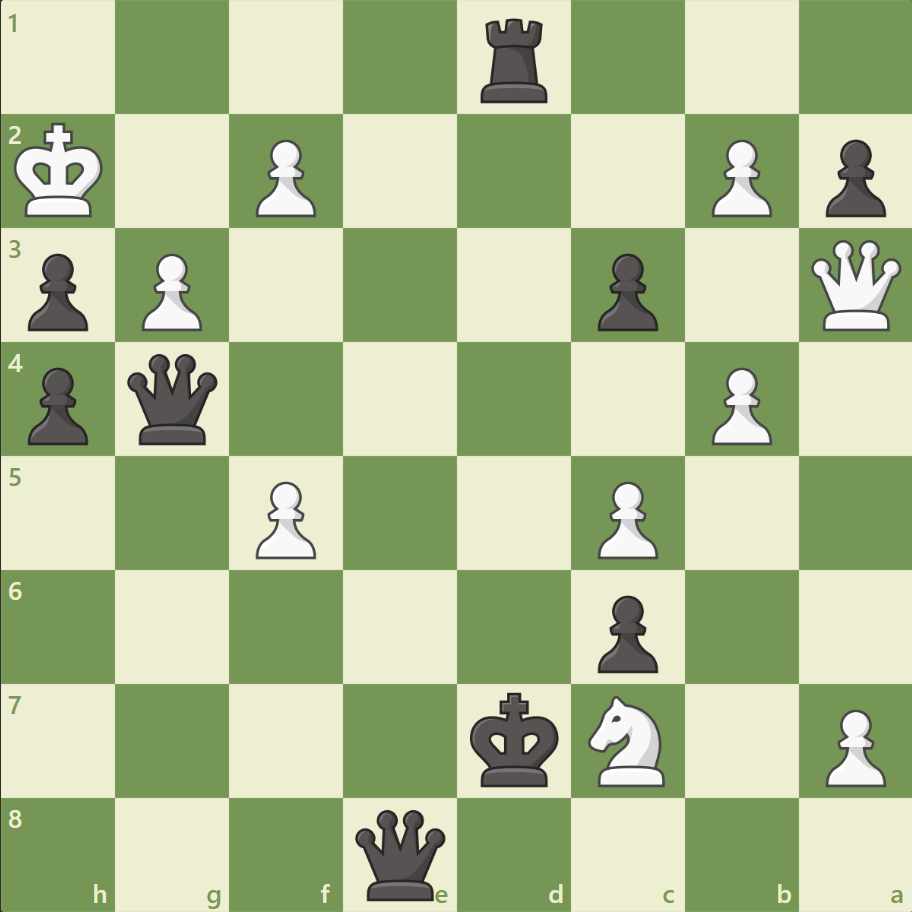K: (11, 117, 111, 225)
N: (579, 688, 676, 791)
P: (247, 473, 322, 564), (701, 359, 776, 450), (133, 246, 208, 337), (701, 132, 776, 223), (247, 132, 322, 223), (815, 700, 889, 791), (588, 473, 662, 564)
Q: (805, 236, 904, 335)
k: (465, 685, 565, 793)
p: (20, 359, 95, 450), (20, 246, 95, 337), (588, 586, 662, 677), (588, 246, 662, 337), (815, 132, 889, 223)
q: (124, 349, 223, 449), (351, 804, 450, 903)
r: (473, 12, 556, 109)
